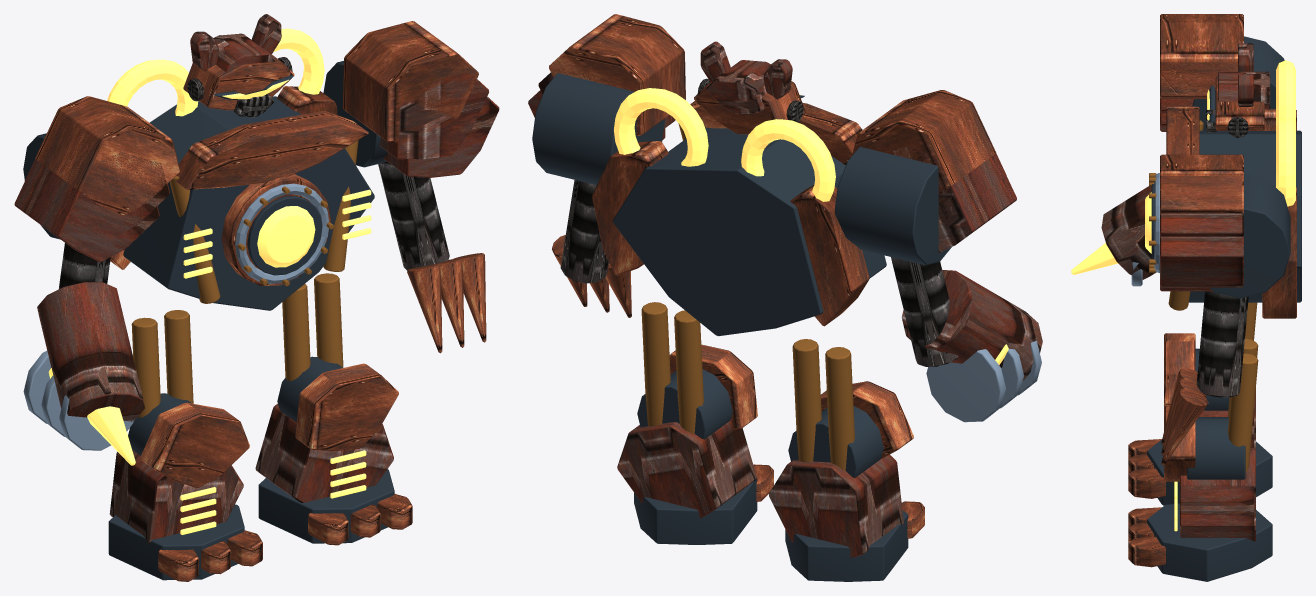
The model's file is rust_revenant.glb.
The picture shows the model from 3 angles, left to right: view 1: azimuth 30°, elevation 25°; view 2: azimuth 150°, elevation 25°; view 3: azimuth 270°, elevation 25°; orthographic projection. The views are drawn at different scales.
Parts seen in each view (by area): view 1: Scalloped shoulder armor.001, Angular main chassis, Collar armor, Scalloped shoulder armor.003, Scalloped shoulder armor, Knee impact armor.001, Knee impact armor, Energy nucleus, Scalloped shoulder armor.004, Shin carapace, Shin carapace.001, Gait pivot.001 (+14 smaller); view 2: Angular main chassis, Collar armor, Scalloped shoulder armor.001, Shoulder pivot, Scalloped shoulder armor.003, Shin carapace, Shin carapace.001, Shoulder pivot.001, Scalloped shoulder armor, Gait pivot.001, Gait pivot, Energy nucleus (+8 smaller); view 3: Gait pivot.001, Scalloped shoulder armor.003, Scalloped shoulder armor.004, Scalloped shoulder armor, Shoulder pivot.001, Collar armor, Shin carapace.001, Forearm piston.001, Angular main chassis, Scalloped shoulder armor.001, Knee impact armor, Energy nucleus (+11 smaller).
Part boxes in pixels (box(x1,y1,x2,y2)): Scalloped shoulder armor.001: box(14, 152, 169, 421); Angular main chassis: box(123, 75, 374, 310); Collar armor: box(110, 54, 368, 285); Scalloped shoulder armor.003: box(342, 21, 486, 353); Scalloped shoulder armor: box(35, 96, 180, 216); Knee impact armor.001: box(295, 363, 412, 545); Knee impact armor: box(140, 402, 262, 581); Energy nucleus: box(107, 28, 371, 278); Scalloped shoulder armor.004: box(379, 72, 499, 177); Shin carapace: box(109, 450, 243, 543); Shin carapace.001: box(255, 403, 393, 502); Gait pivot.001: box(258, 356, 394, 543); Angular main chassis: box(613, 95, 886, 336); Collar armor: box(592, 81, 869, 326); Scalloped shoulder armor.001: box(887, 146, 1042, 380); Shoulder pivot: box(834, 146, 951, 265); Scalloped shoulder armor.003: box(549, 14, 685, 317); Shin carapace: box(769, 454, 903, 557); Shin carapace.001: box(617, 420, 756, 517); Shoulder pivot.001: box(532, 73, 664, 184); Scalloped shoulder armor: box(852, 90, 996, 194); Gait pivot.001: box(634, 369, 757, 544); Gait pivot: box(785, 406, 908, 581); Energy nucleus: box(614, 88, 835, 201); Gait pivot.001: box(1147, 417, 1272, 581); Scalloped shoulder armor.003: box(1160, 154, 1243, 465); Scalloped shoulder armor.004: box(1160, 212, 1243, 291); Scalloped shoulder armor: box(1160, 14, 1243, 99); Shoulder pivot.001: box(1210, 173, 1290, 298); Collar armor: box(1166, 76, 1296, 318); Shin carapace.001: box(1180, 448, 1255, 541); Forearm piston.001: box(1196, 291, 1248, 397); Angular main chassis: box(1151, 85, 1301, 302); Scalloped shoulder armor.001: box(1101, 98, 1193, 279); Knee impact armor: box(1128, 333, 1195, 498); Energy nucleus: box(1145, 60, 1295, 253).
Size of the model in its own units: 3.08 by 3.22 by 1.46.
7 materials, 3 textured.
